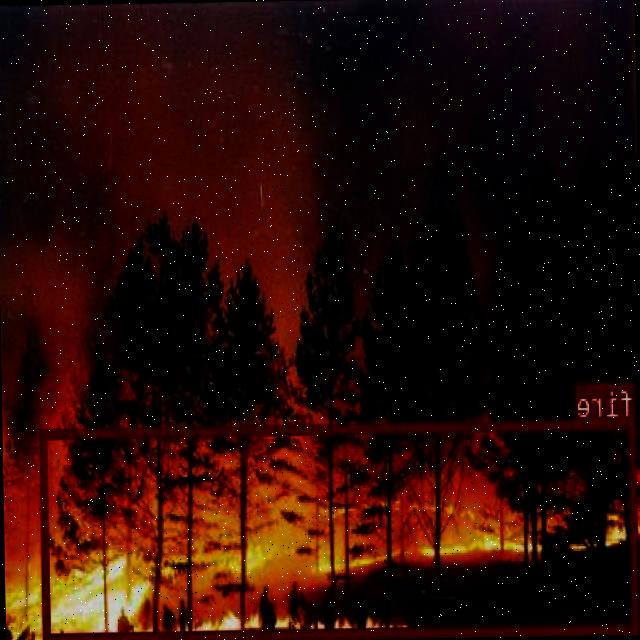fire: (41, 417, 640, 640)
